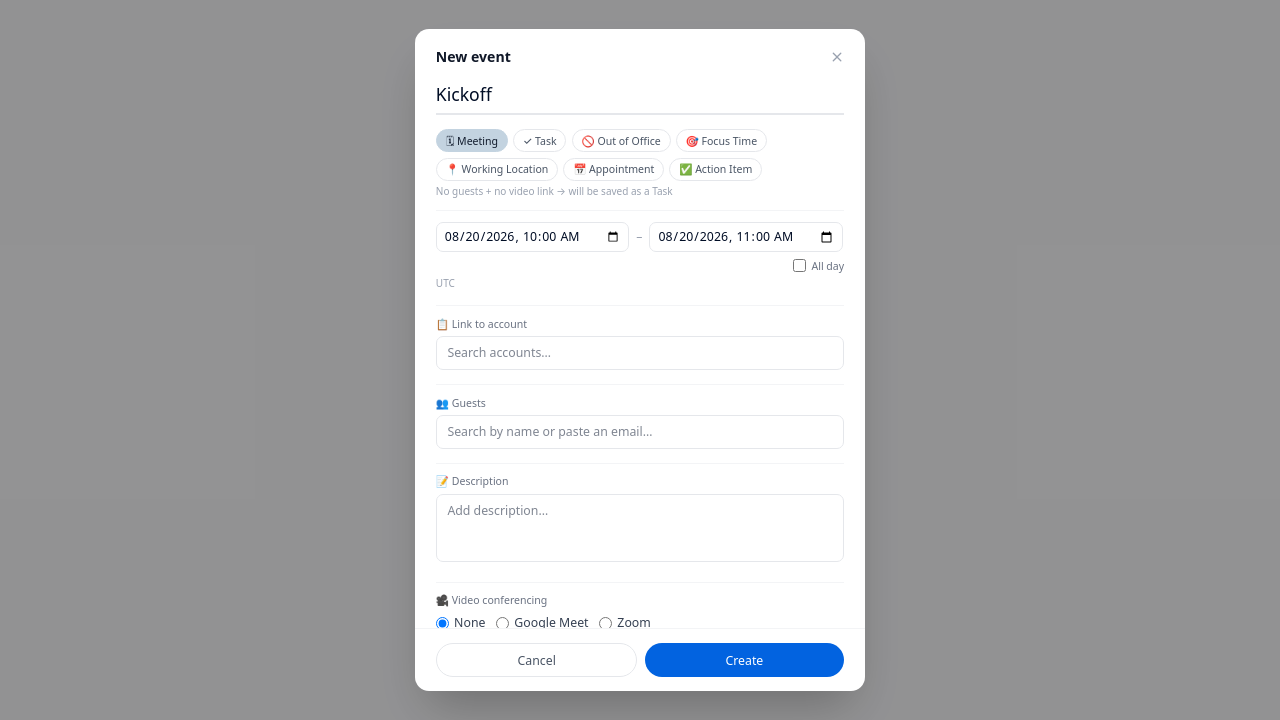
CreateEventModal › typing a new email and pressing Enter adds it as a guest
Step 1. Type "newperson@twilio.com" into the field with placeholder "Search by name or paste an email…" → (640, 432), box [436,415,844,449]
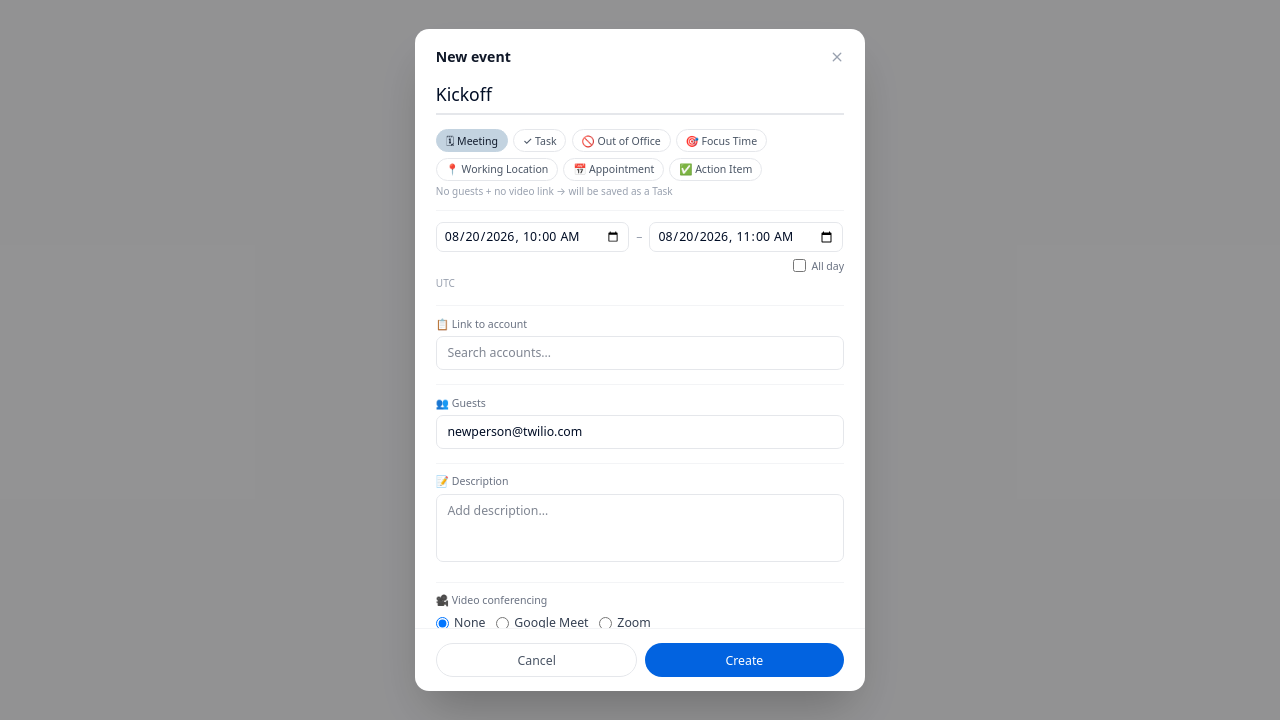
Step 2. Press Enter in the field with placeholder "Search by name or paste an email…" below "👥 Guests", box [436,415,844,449]
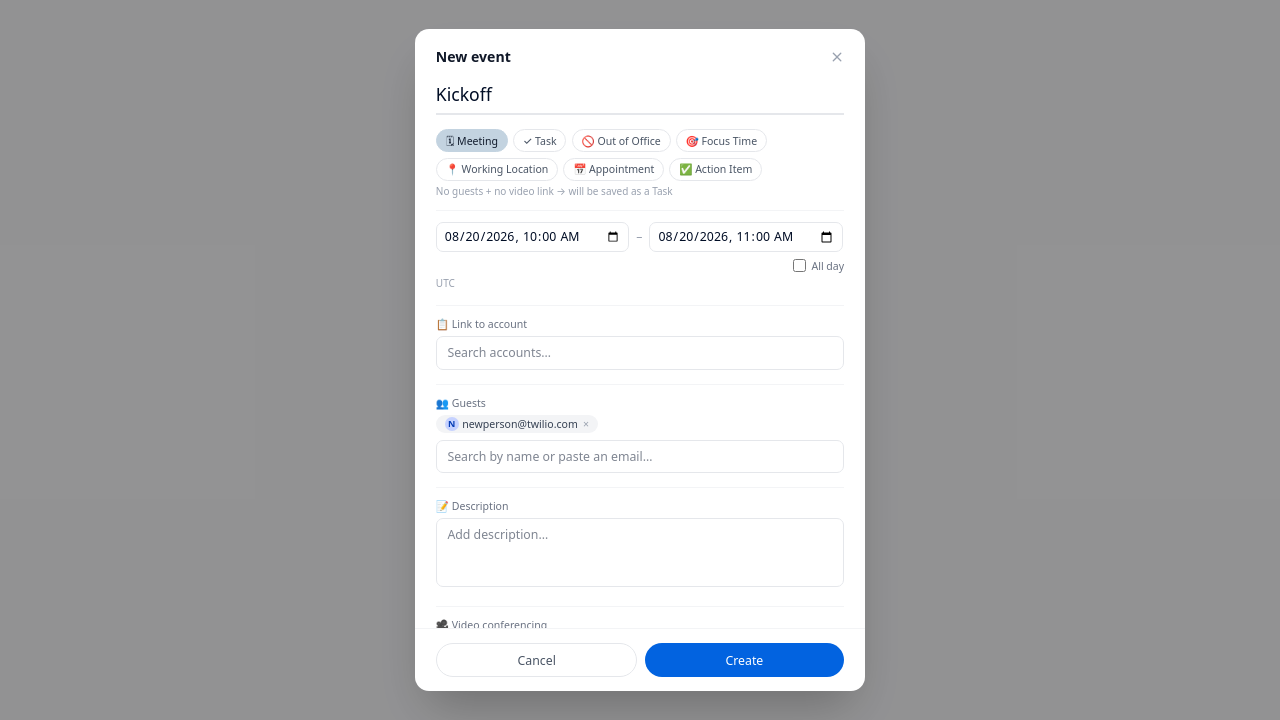
Expected: the text "newperson@twilio.com" is shown, [462,417,578,431]
